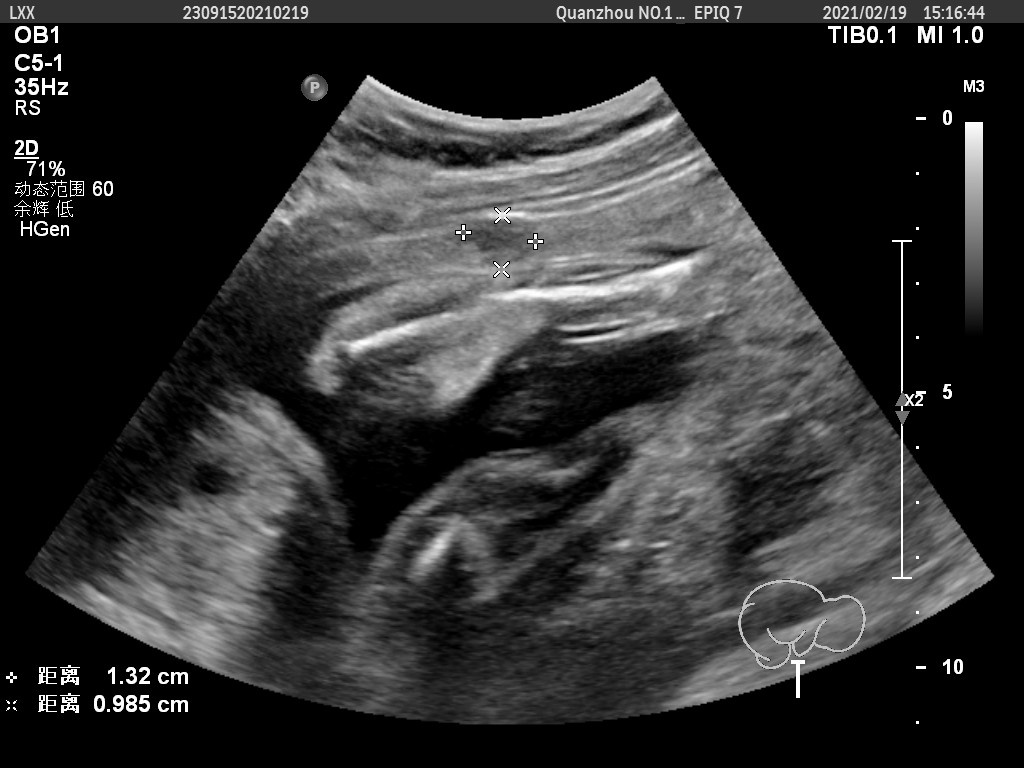肌瘤: (470, 221, 538, 260), (471, 222, 535, 256)
